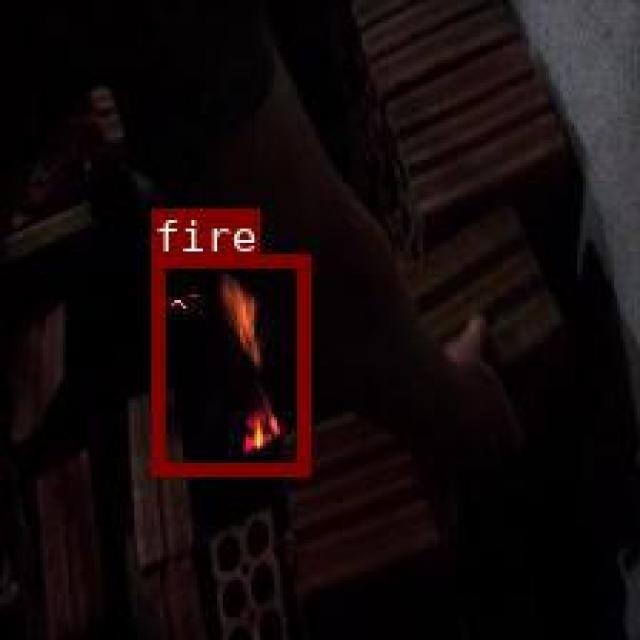fire: (150, 254, 307, 473)
